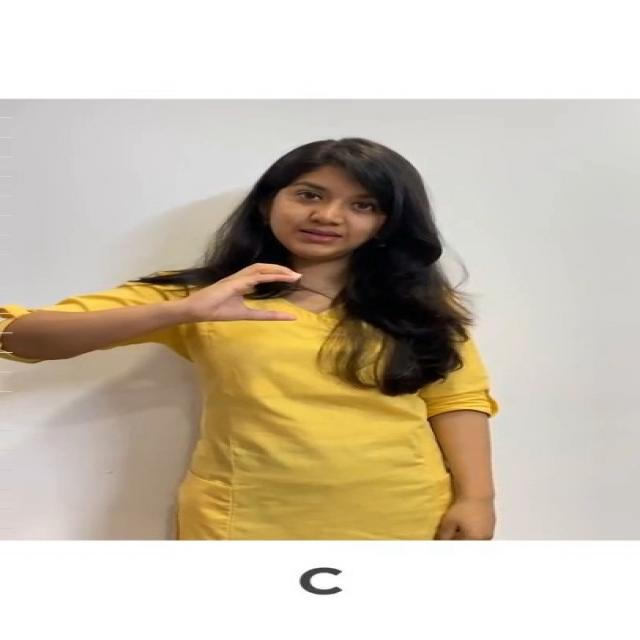c: (174, 255, 315, 331)
